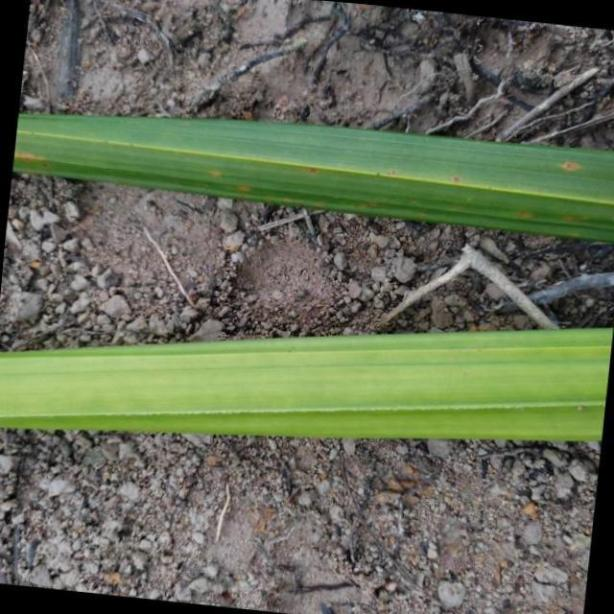nitrogen: (11, 106, 614, 242), (0, 323, 614, 443)
